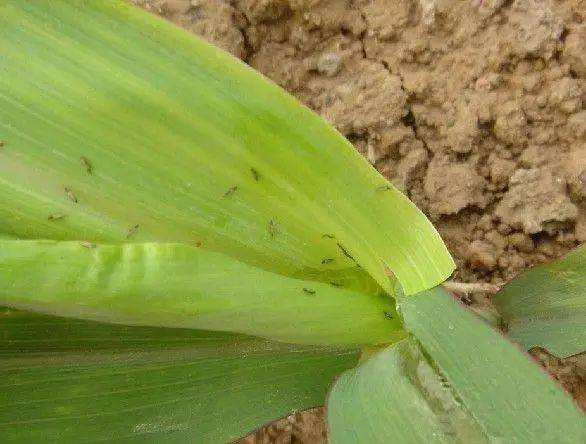Phlaeothripidae: (218, 183, 243, 199), (64, 185, 82, 207), (374, 185, 396, 198), (250, 166, 262, 187), (299, 282, 317, 295)
